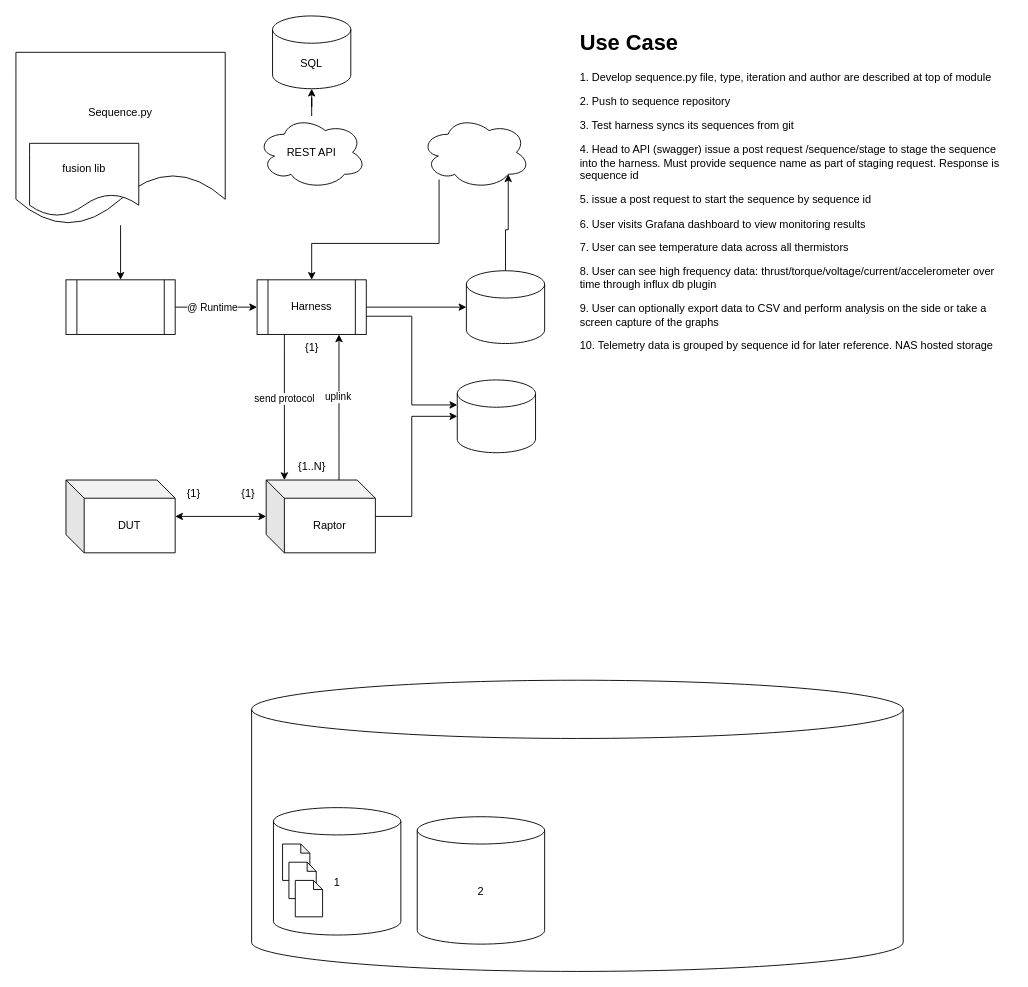
Image size: 1028x987. Some labels were removed from this diagram. Here are the shapes that lost their labels. From the top down, the centre of each, then its label:
At (475,152): "Grafana".
At (120,306): "Sequence Repository".
At (505,307): "Time Series".
At (496,416): "Loki".
